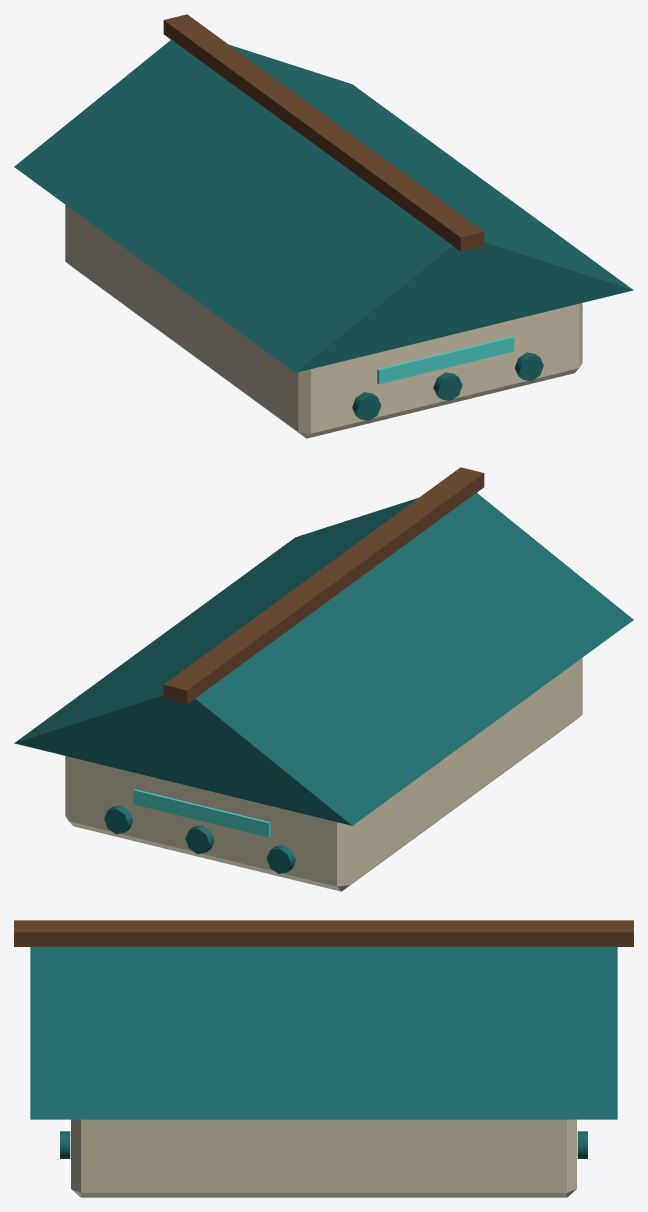
File: k1_memory.obj
3 renders of one model, top to bottom at view 1: azimuth 30°, elevation 25°; view 2: azimuth 150°, elevation 25°; view 3: azimuth 270°, elevation 25°, orthographic. The views are drawn at different scales.
Visible parts, largest first — view 1: k1_memory; view 2: k1_memory; view 3: k1_memory.
Boxes of the visible parts, x1,y1,x2,y2 form: k1_memory: (14,14,633,438); k1_memory: (14,467,633,891); k1_memory: (14,920,633,1197).
Bounding box in the file's own units: 0.5 × 0.275 × 0.76.
